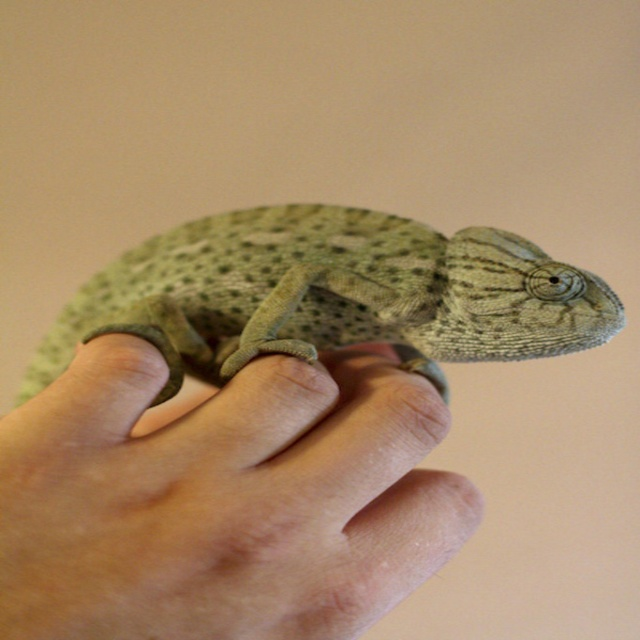Lizard: (11, 197, 619, 405)
